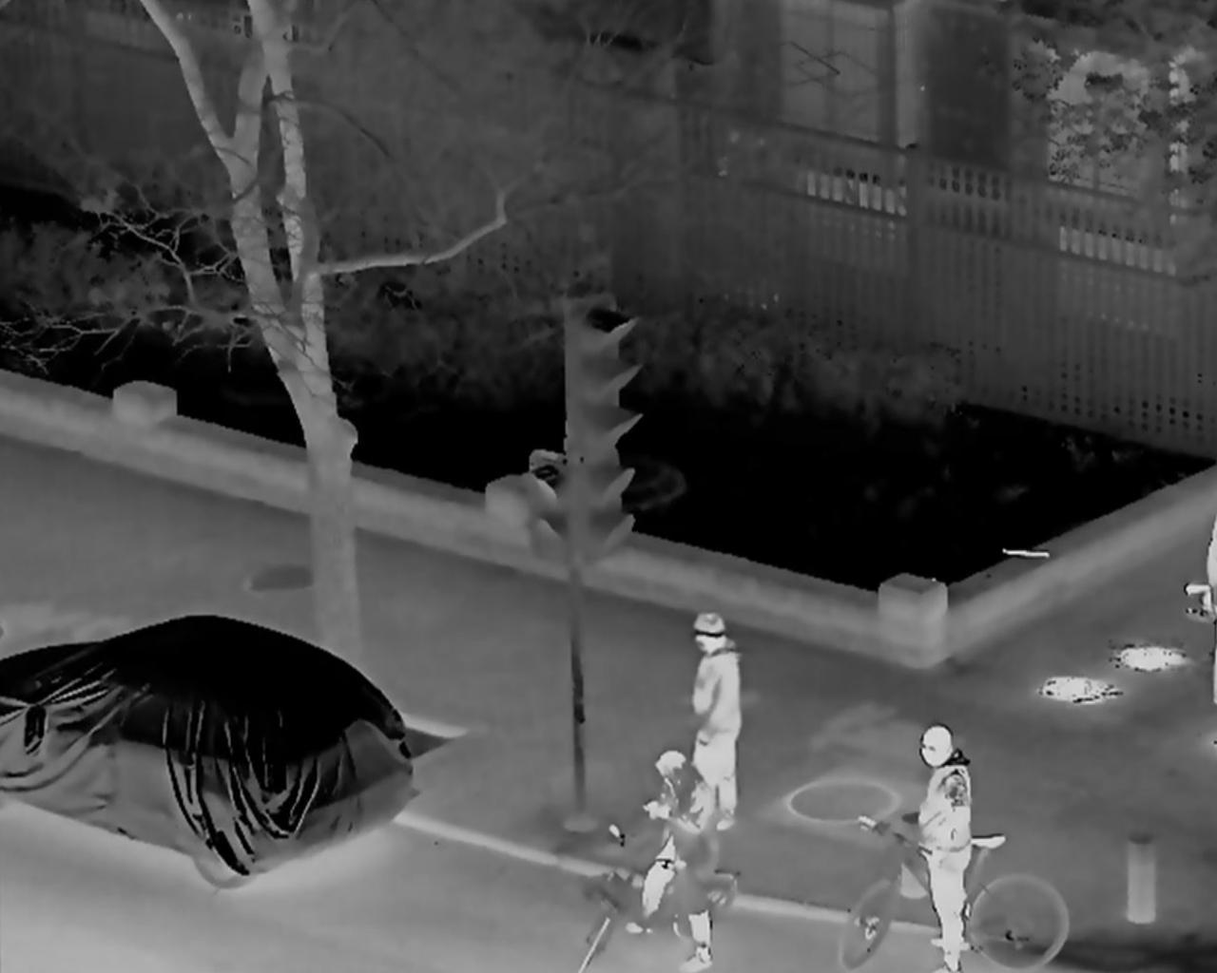person: (622, 752, 725, 965), (918, 722, 988, 973), (683, 604, 742, 833)
